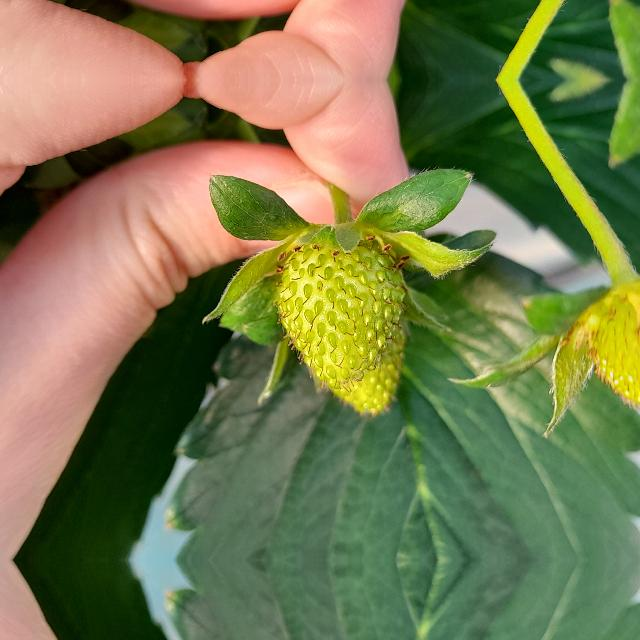Health_25: (274, 236, 408, 392)
